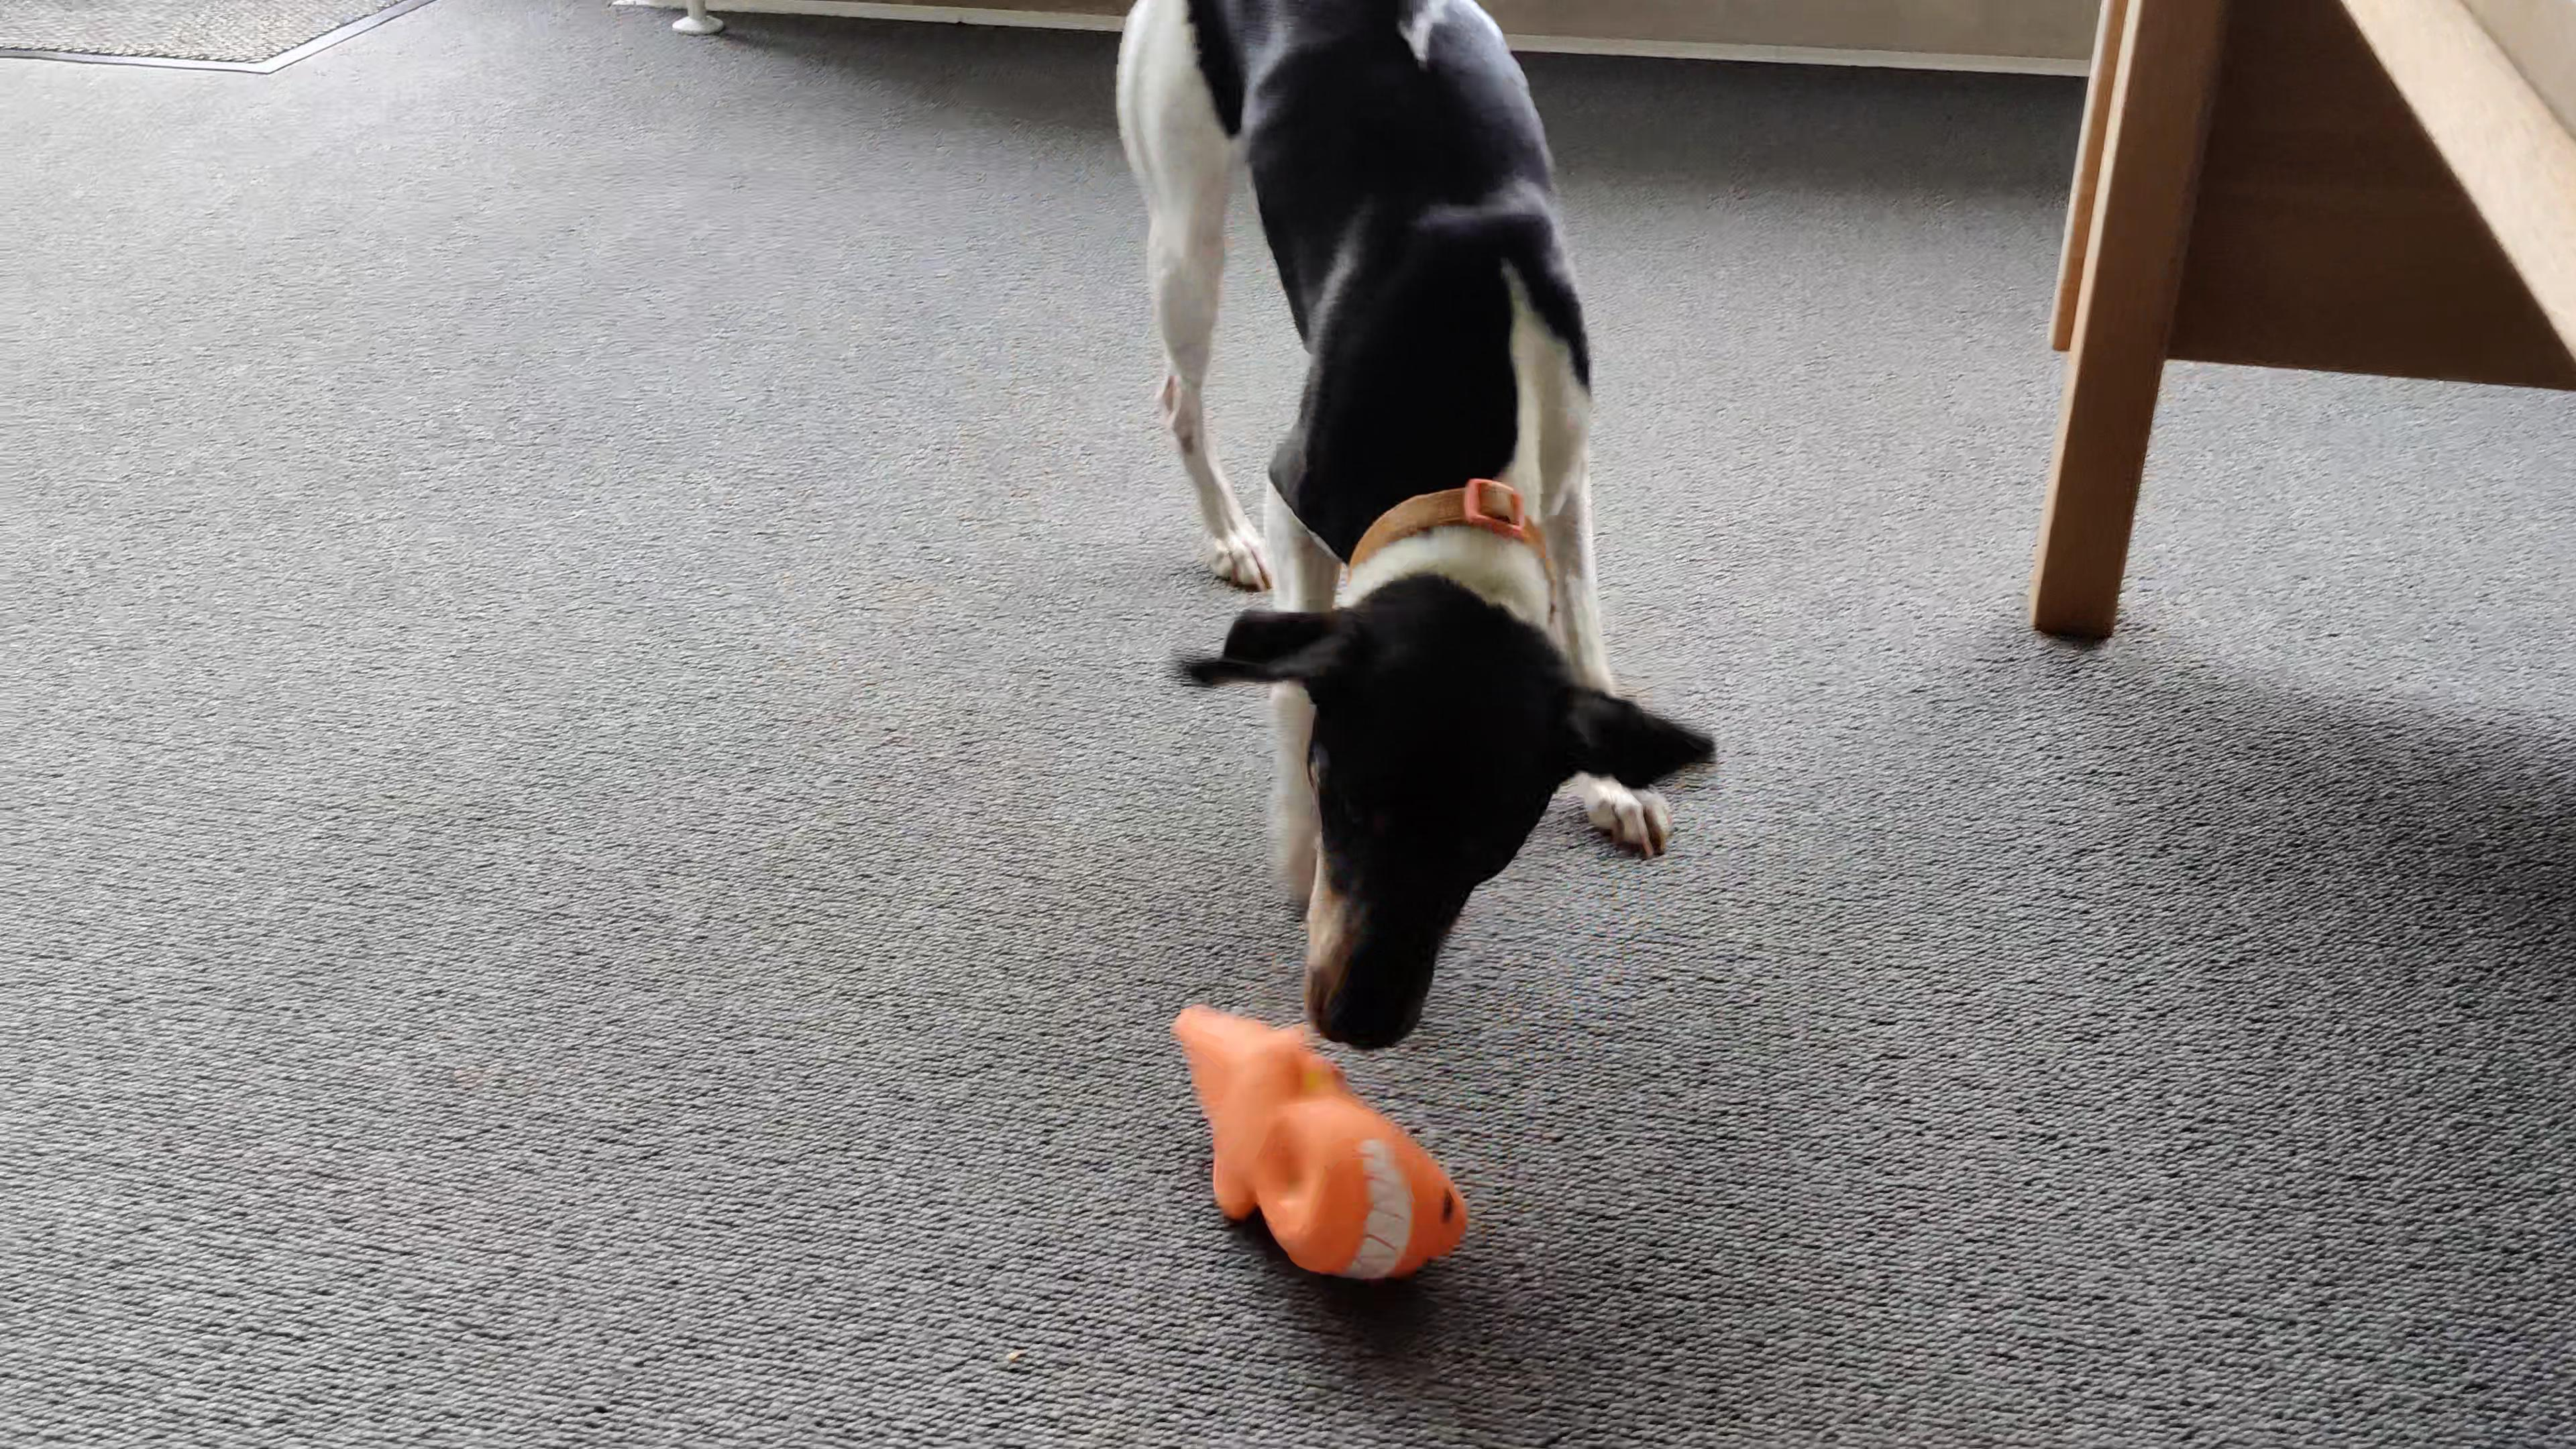Dog: (1102, 0, 1725, 1053)
